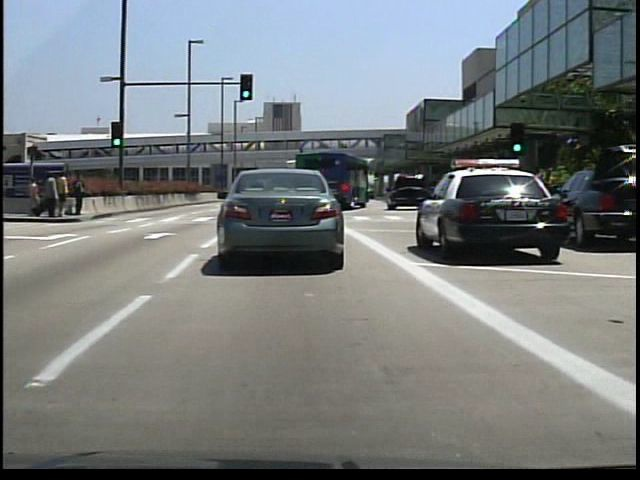person: (43, 171, 60, 219), (69, 171, 86, 218), (23, 174, 42, 216), (57, 171, 71, 219)
